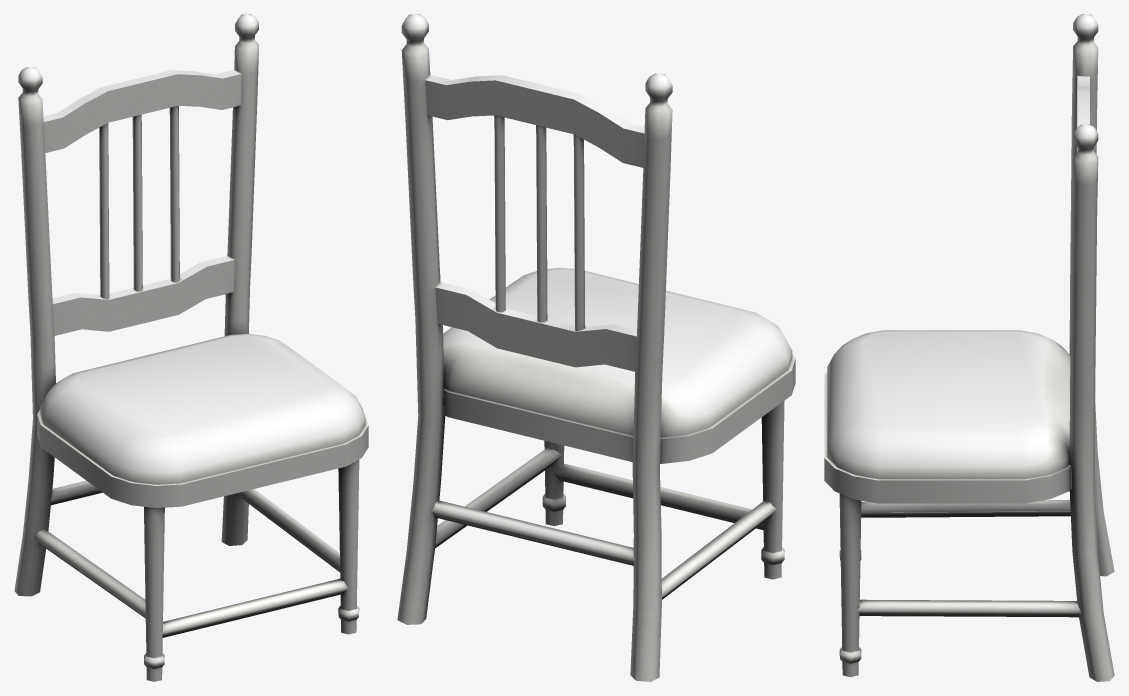
3 views of the same model, side by side, from view 1: azimuth 30°, elevation 25°; view 2: azimuth 150°, elevation 25°; view 3: azimuth 270°, elevation 25° (orthographic). The views are drawn at different scales.
Visible parts, largest first — view 1: yizi24; view 2: yizi24; view 3: yizi24.
Boxes of the visible parts, box(x1,y1,x2,y2) form: yizi24: box(14, 14, 368, 681); yizi24: box(397, 14, 795, 681); yizi24: box(824, 14, 1114, 681).
Bounding box in the file's own units: 60 × 56.93 × 120.
Materials: 1 (1 with a texture image).
